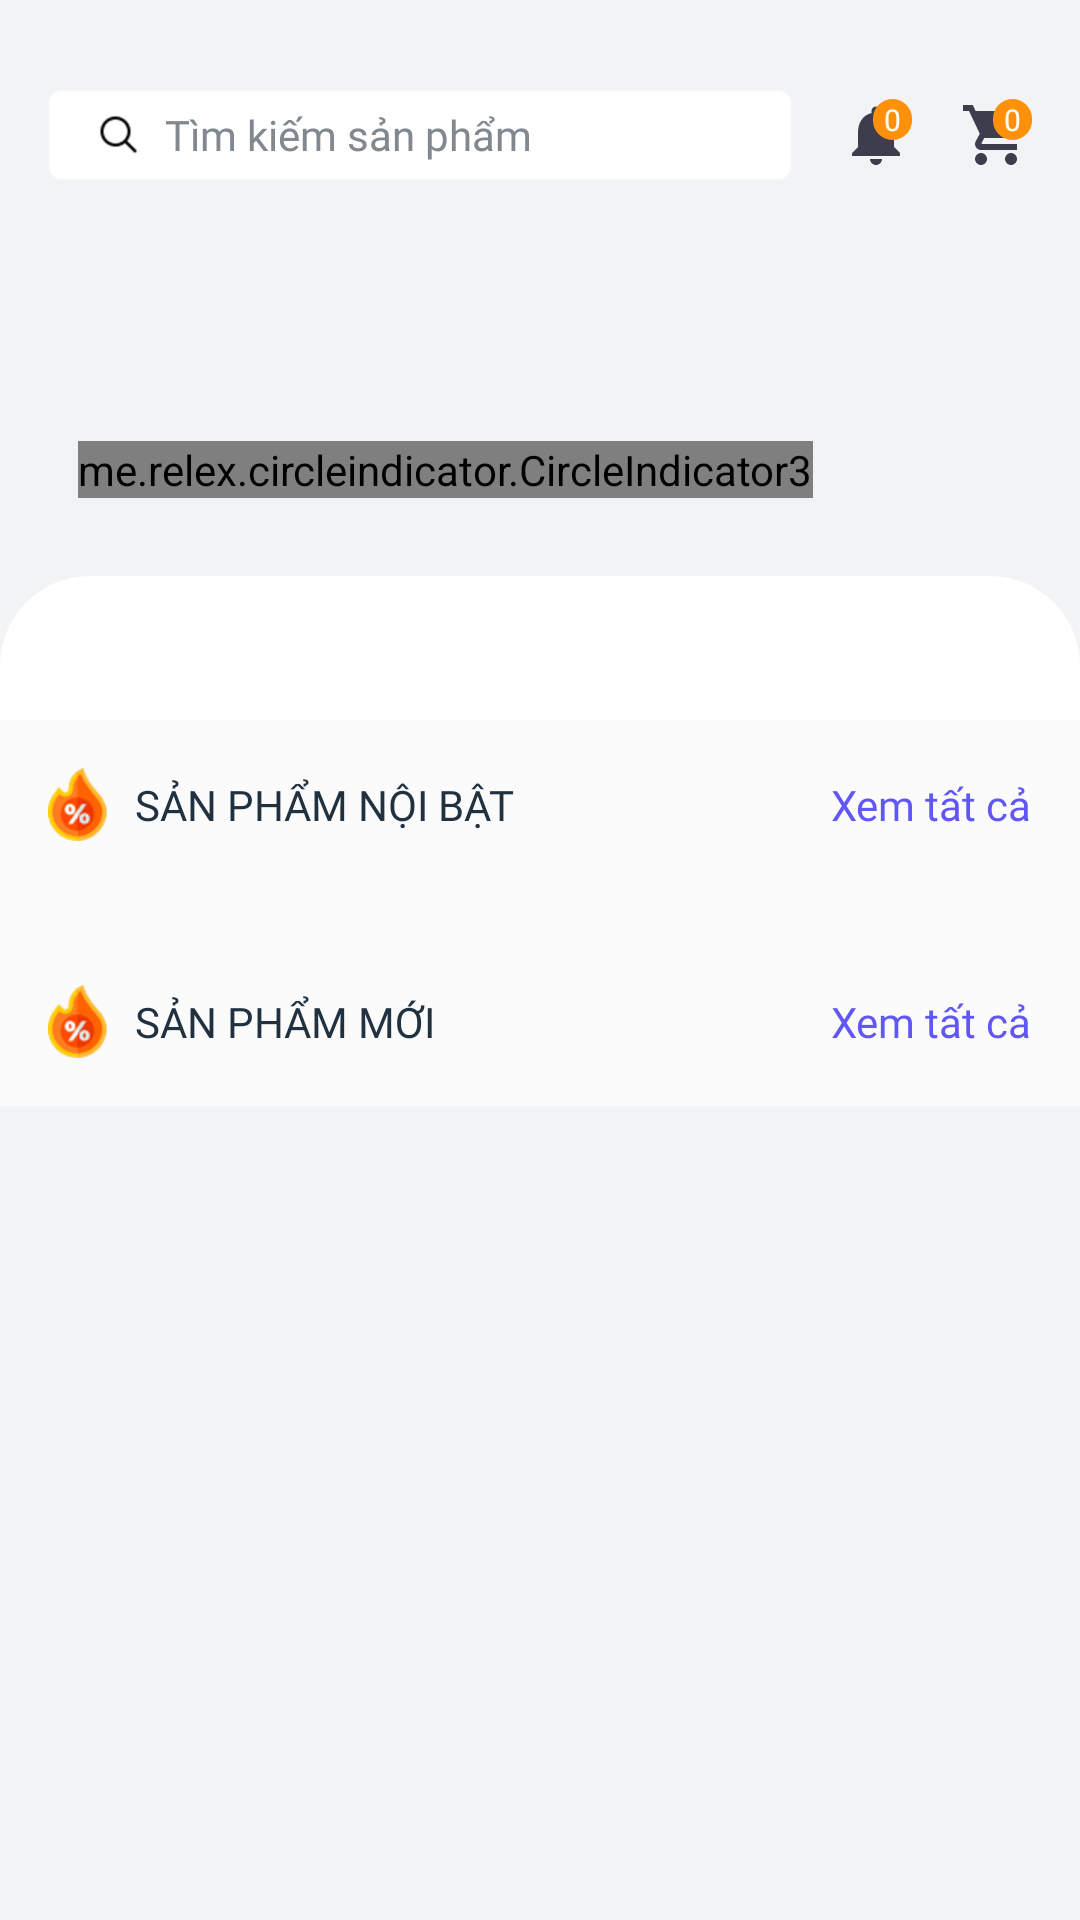

Screen size 1080px×1920px. Icon name, then its center in pixels as (x,y):
cart: (997,132)
hot sale: (77,804), (77,1021)
notification: (882,132)
